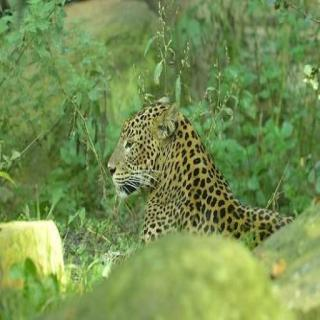Leopard: (88, 96, 298, 285)
